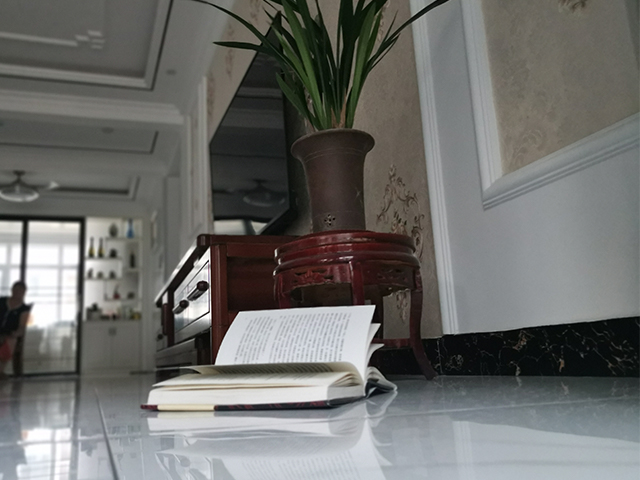book: (136, 302, 401, 414)
cabinet: (152, 232, 306, 378), (81, 320, 138, 374)
stool: (268, 228, 441, 381)
